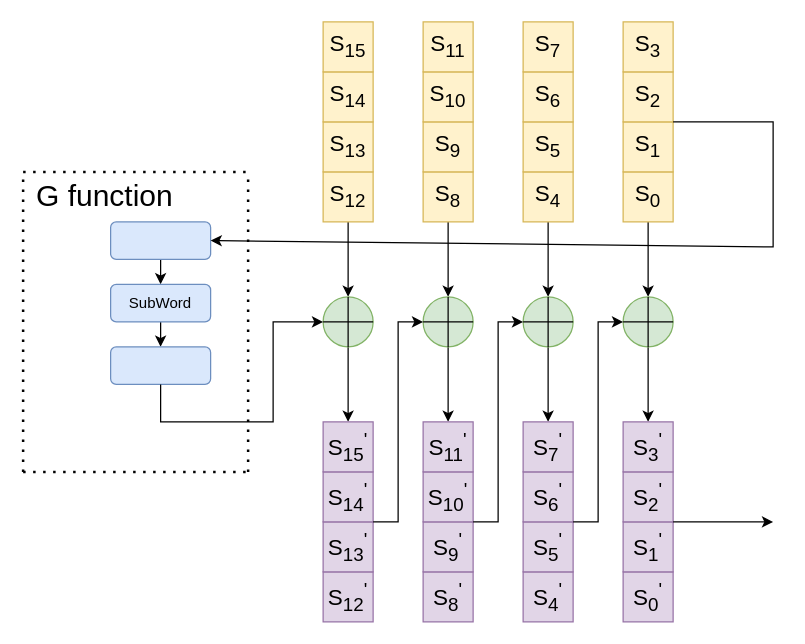
Image size: 805x644. Some labels were removed from this diagram. The centre of each missing label's shape, as x and y in pixels:
Rcon: the point at 160,365
RotWord: the point at 160,240
